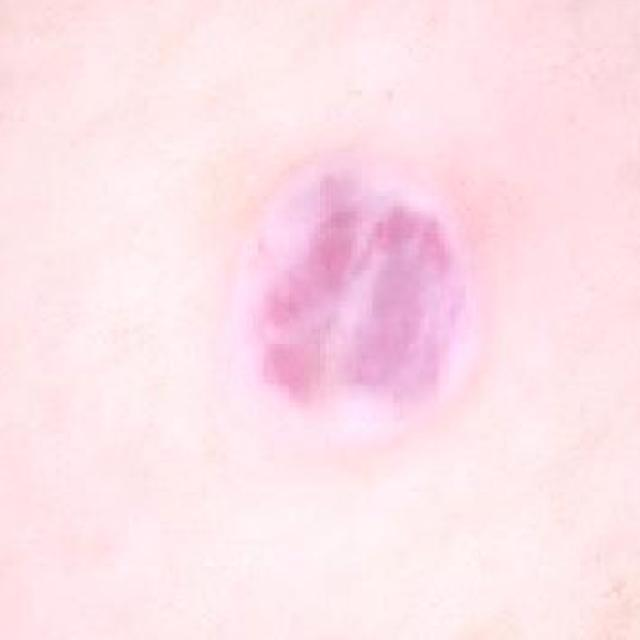VASC: (205, 103, 572, 536)
